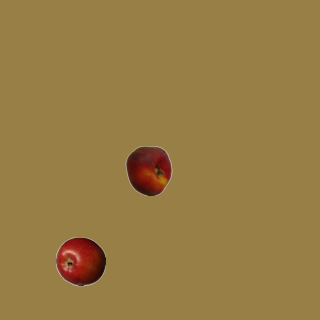Apple Braeburn: (55, 236, 105, 286)
Nectarine Flat: (123, 145, 173, 195)
